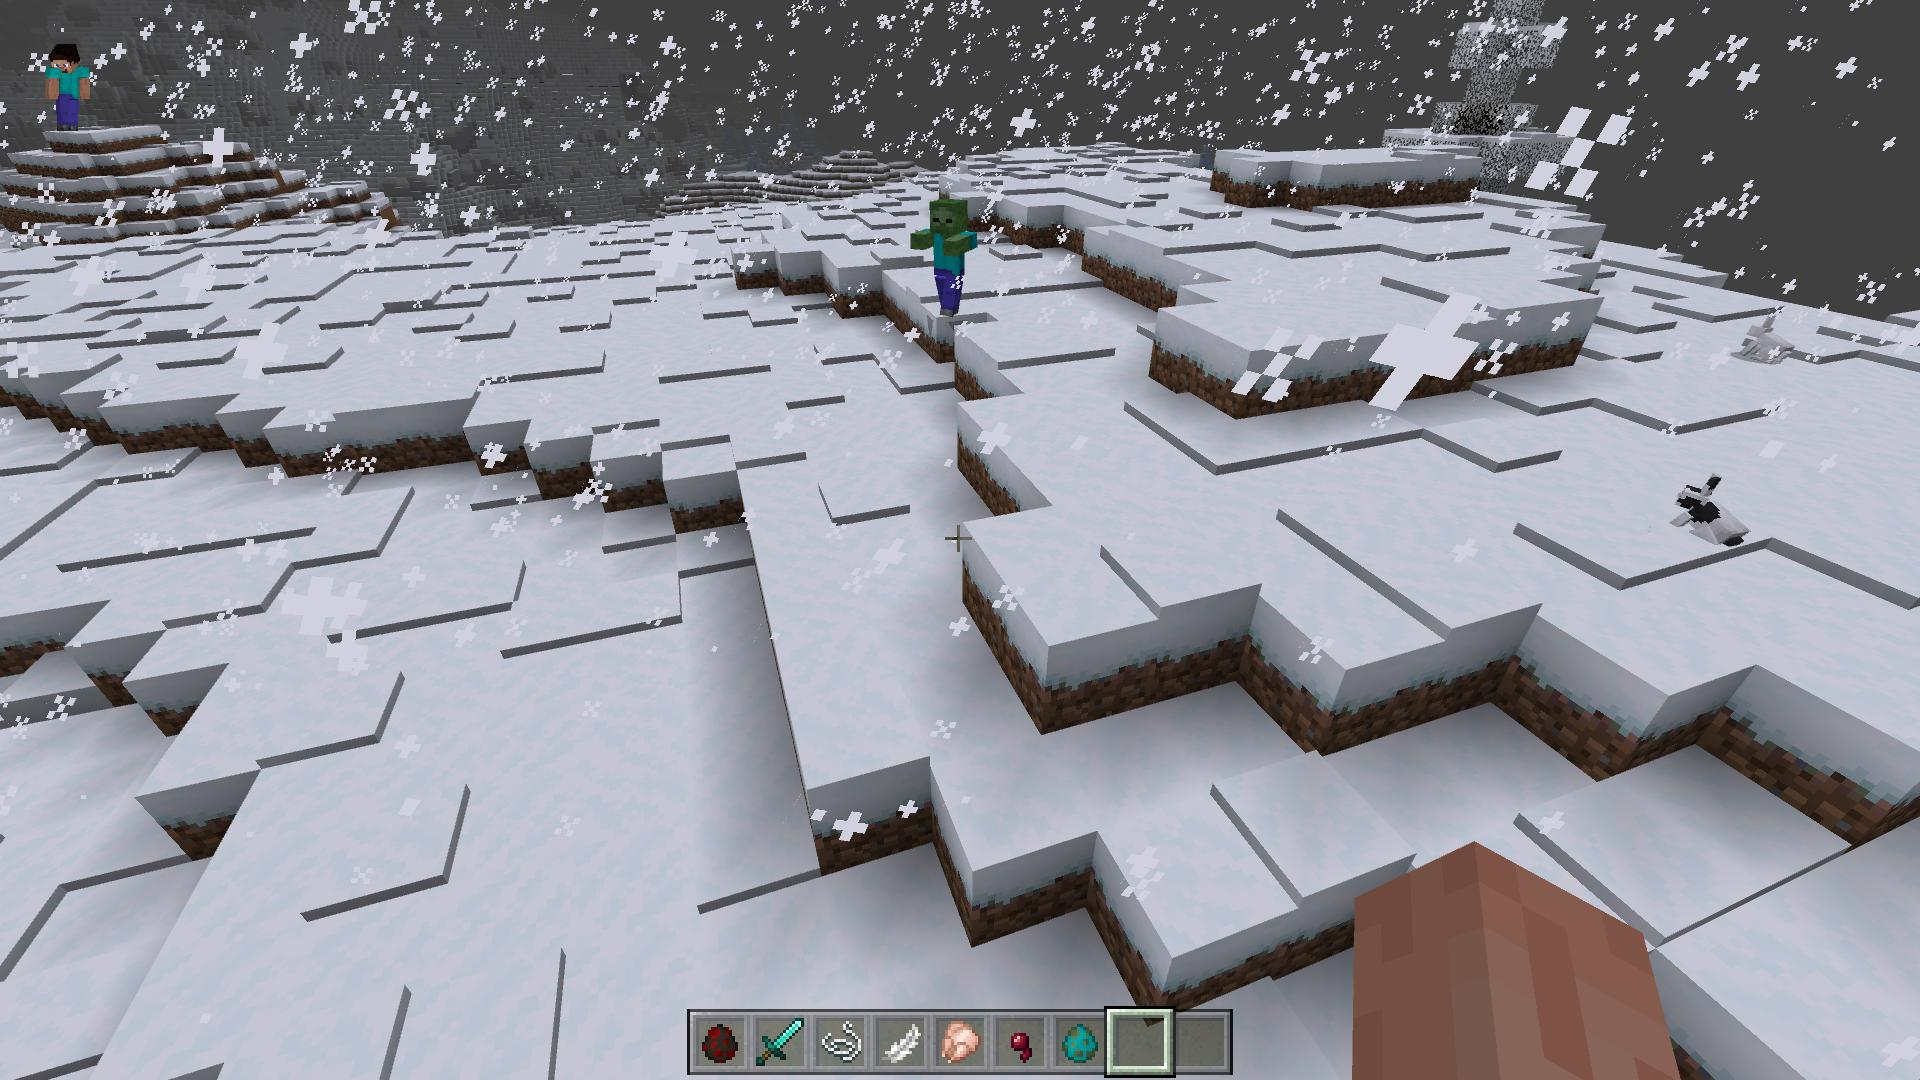zombie: (911, 194, 981, 320)
